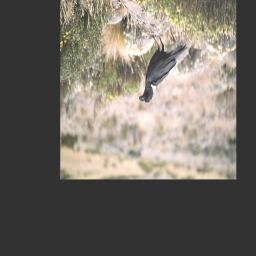Crow: (138, 32, 188, 106)
